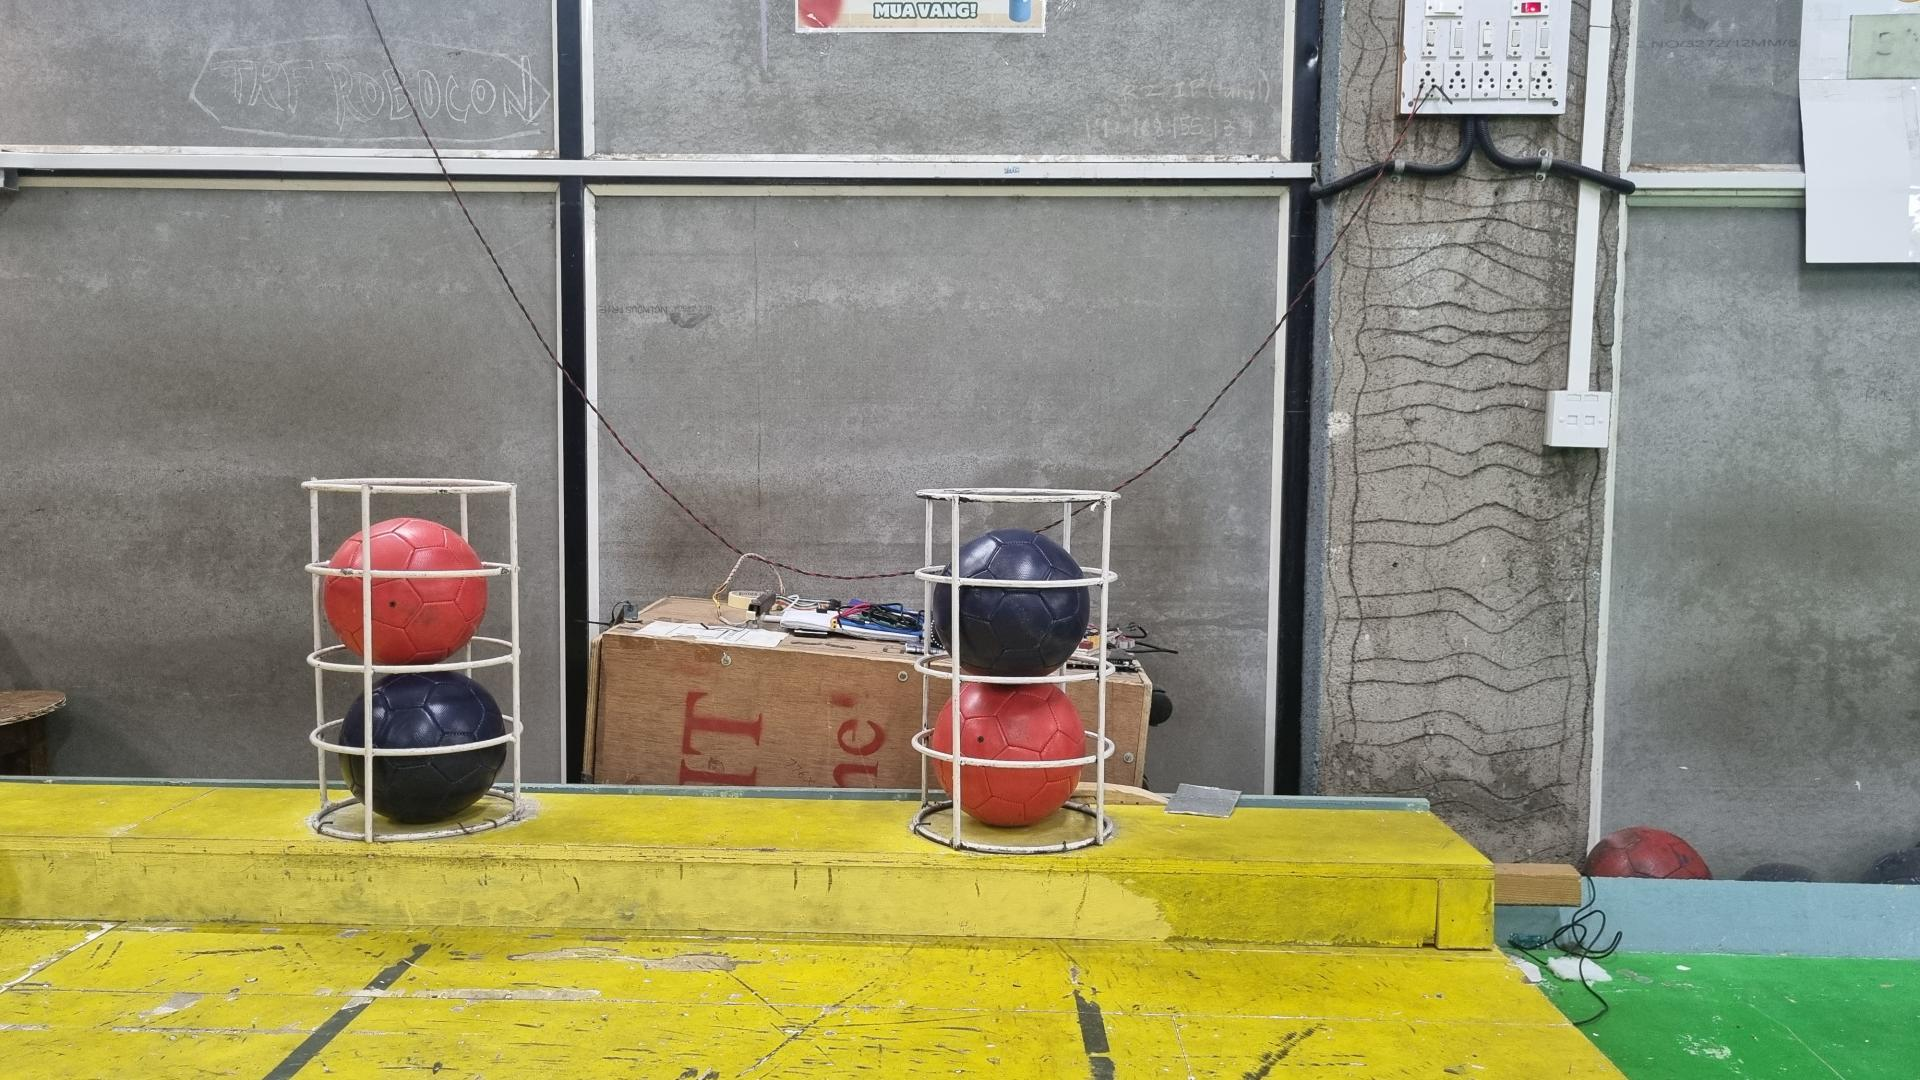dhoka: (339, 670, 506, 823), (928, 530, 1091, 679)
laale: (323, 517, 488, 667), (928, 682, 1087, 828)
